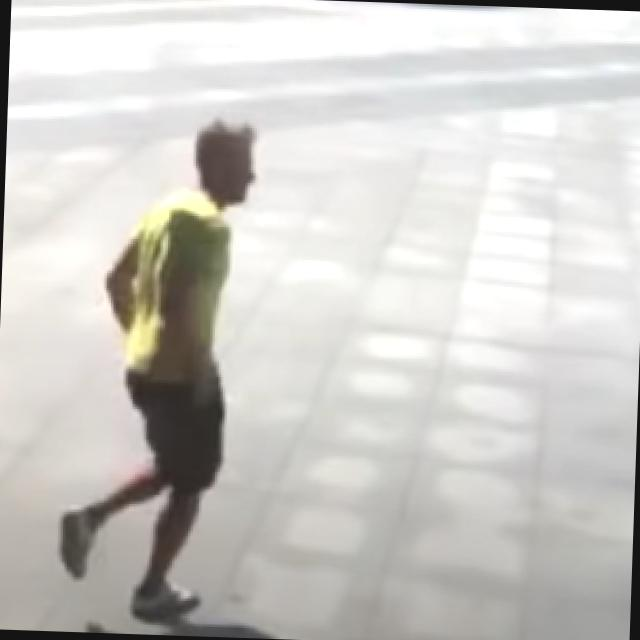person: (52, 113, 256, 622)
